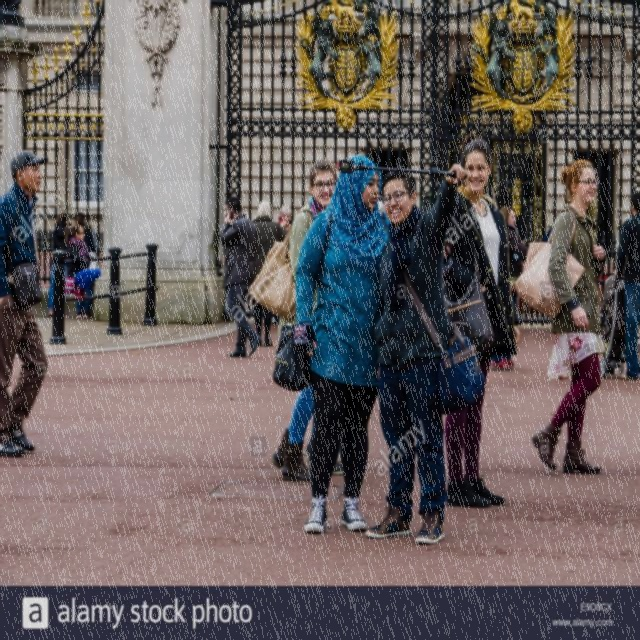pessoa: (361, 162, 468, 547), (292, 152, 396, 538), (434, 133, 520, 512), (530, 158, 608, 478), (268, 157, 338, 482), (0, 150, 52, 458), (216, 194, 264, 360), (488, 204, 530, 370), (610, 188, 640, 382), (250, 199, 288, 348), (74, 212, 100, 318), (66, 224, 102, 299), (48, 212, 70, 320), (301, 418, 318, 461), (278, 204, 294, 233), (332, 452, 346, 478)
